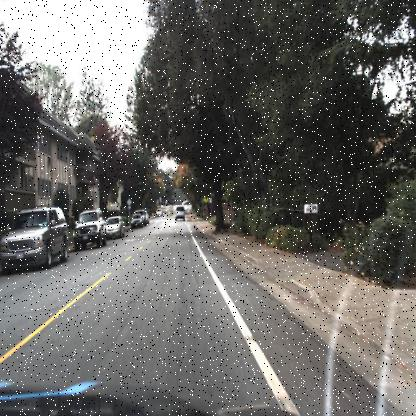car: (0, 204, 68, 273), (71, 206, 108, 252), (106, 214, 125, 238), (174, 200, 187, 223), (132, 213, 144, 227)
